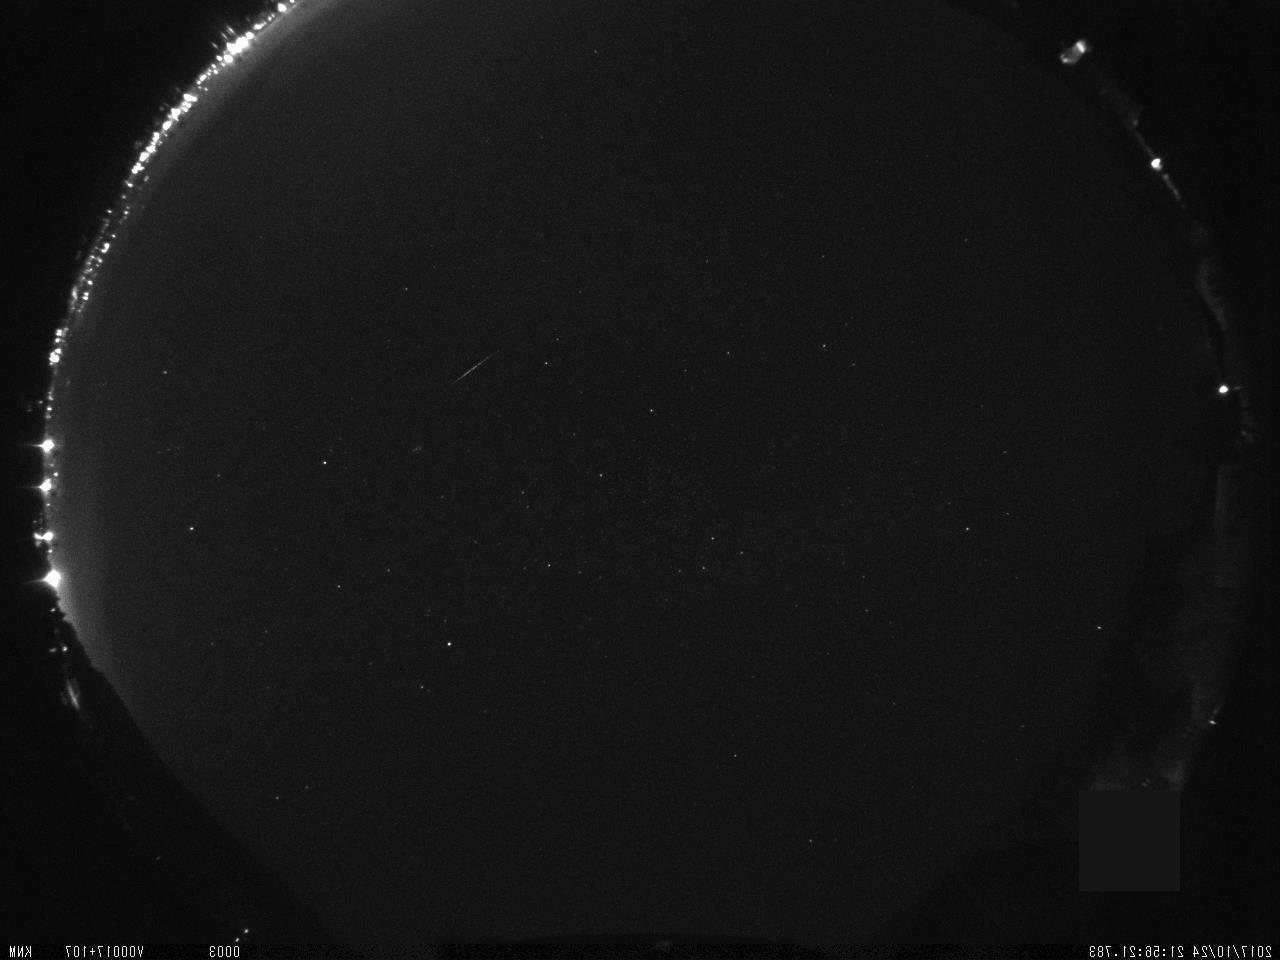meteor: (446, 341, 506, 394)
